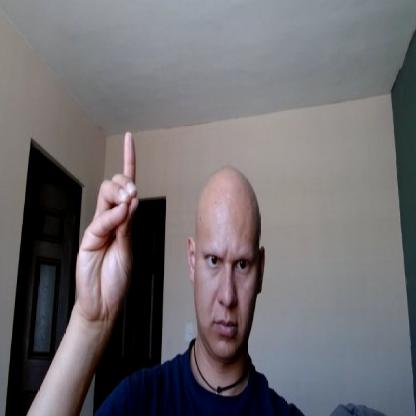D: (76, 132, 140, 318)
